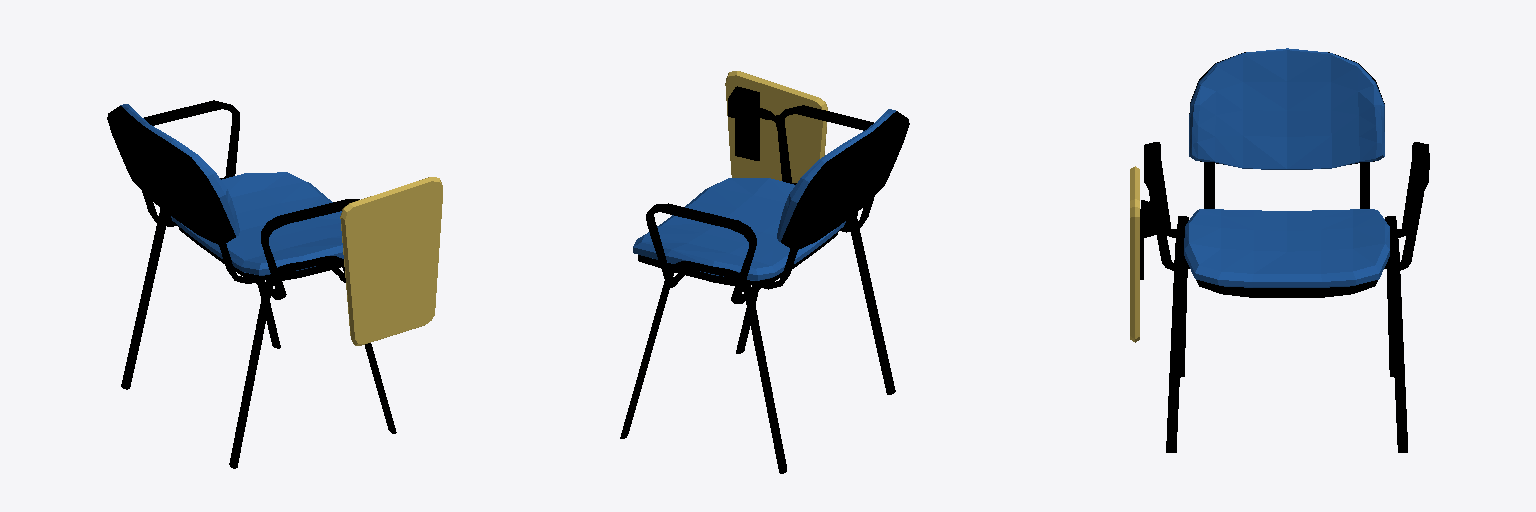
Rendered from Chair_02.obj.
3 views of the same model, side by side, from view 1: azimuth 30°, elevation 25°; view 2: azimuth 150°, elevation 25°; view 3: azimuth 270°, elevation 25° (orthographic).
Visible parts, largest first — view 1: Chair_2_Cube.004; view 2: Chair_2_Cube.004; view 3: Chair_2_Cube.004.
Part boxes in pixels (x1,y1,x2,y2): Chair_2_Cube.004: (107, 100, 442, 468); Chair_2_Cube.004: (620, 71, 909, 473); Chair_2_Cube.004: (1130, 48, 1429, 452).
Size of the model in its own units: 1.31 by 1.71 by 1.49.